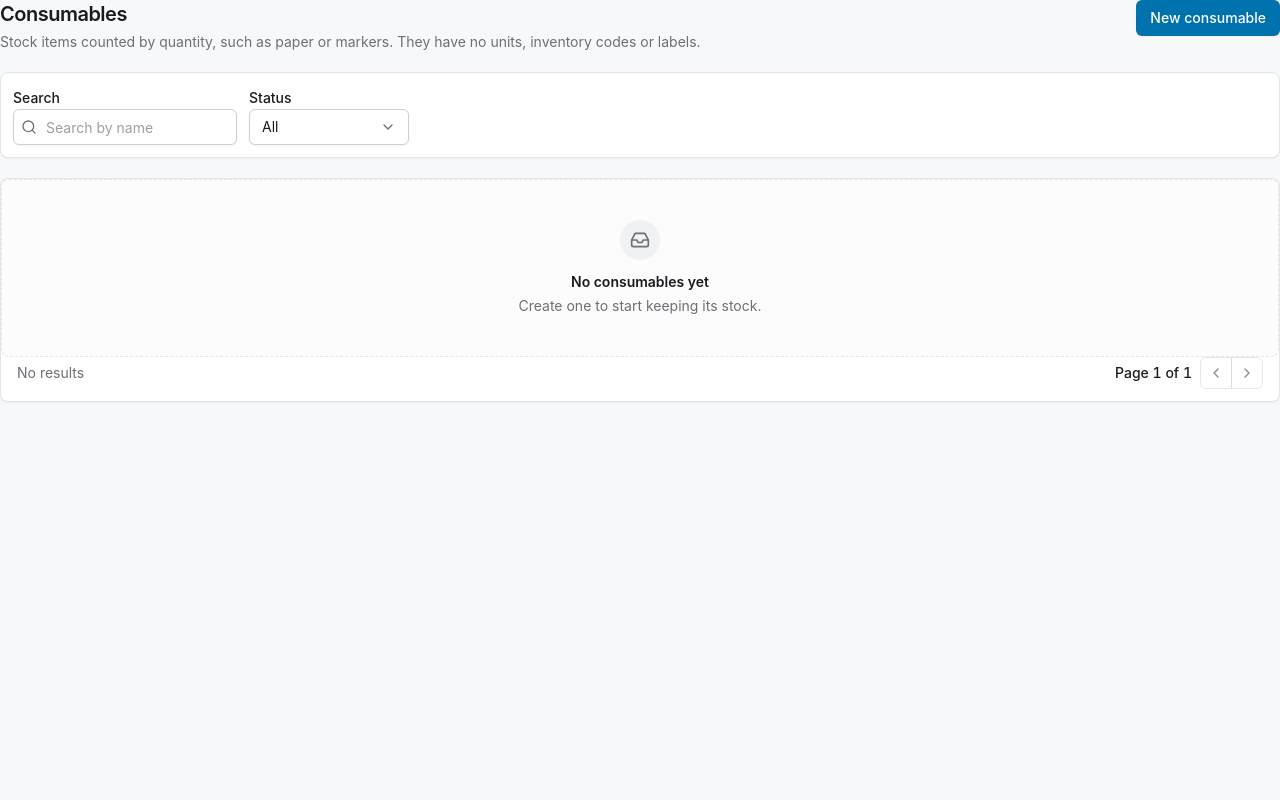
the consumable master and its stock › creates one with a name and unit — and asks for no inventory code
Click the button "New consumable".
click(1208, 18)  # box [1136,0,1279,36]
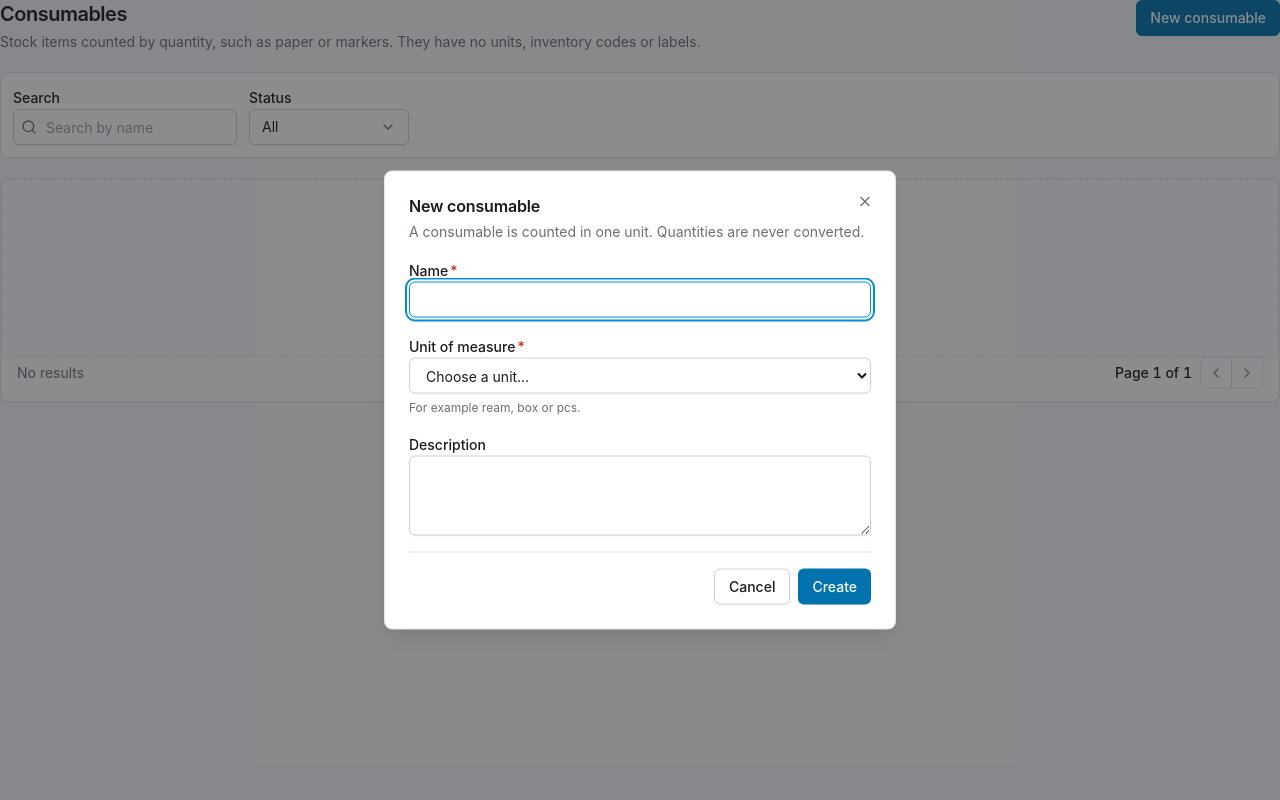
Click the button "Create".
click(835, 586)  # box [798,568,871,604]
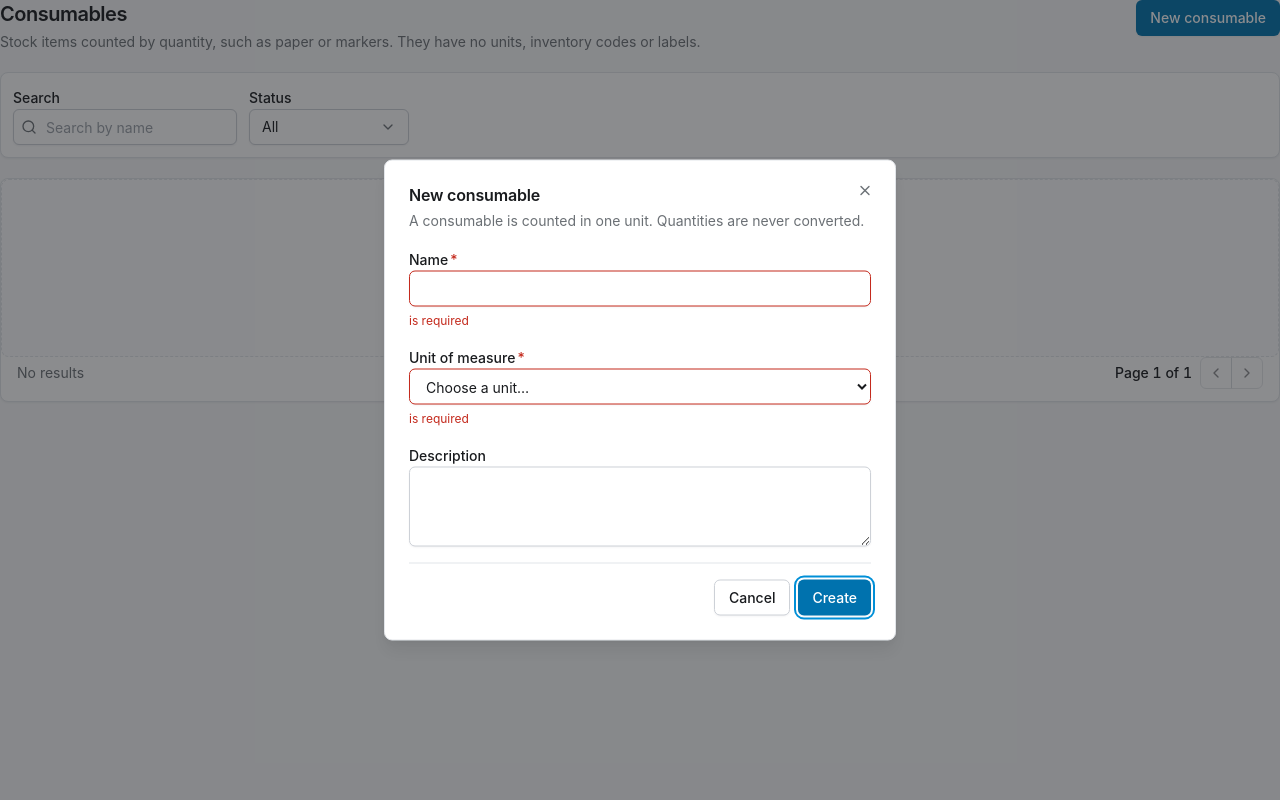
Type "Kertas A4" into the field labelled "Name*".
click(640, 288); type("Kertas A4")  # box [409,270,871,306]
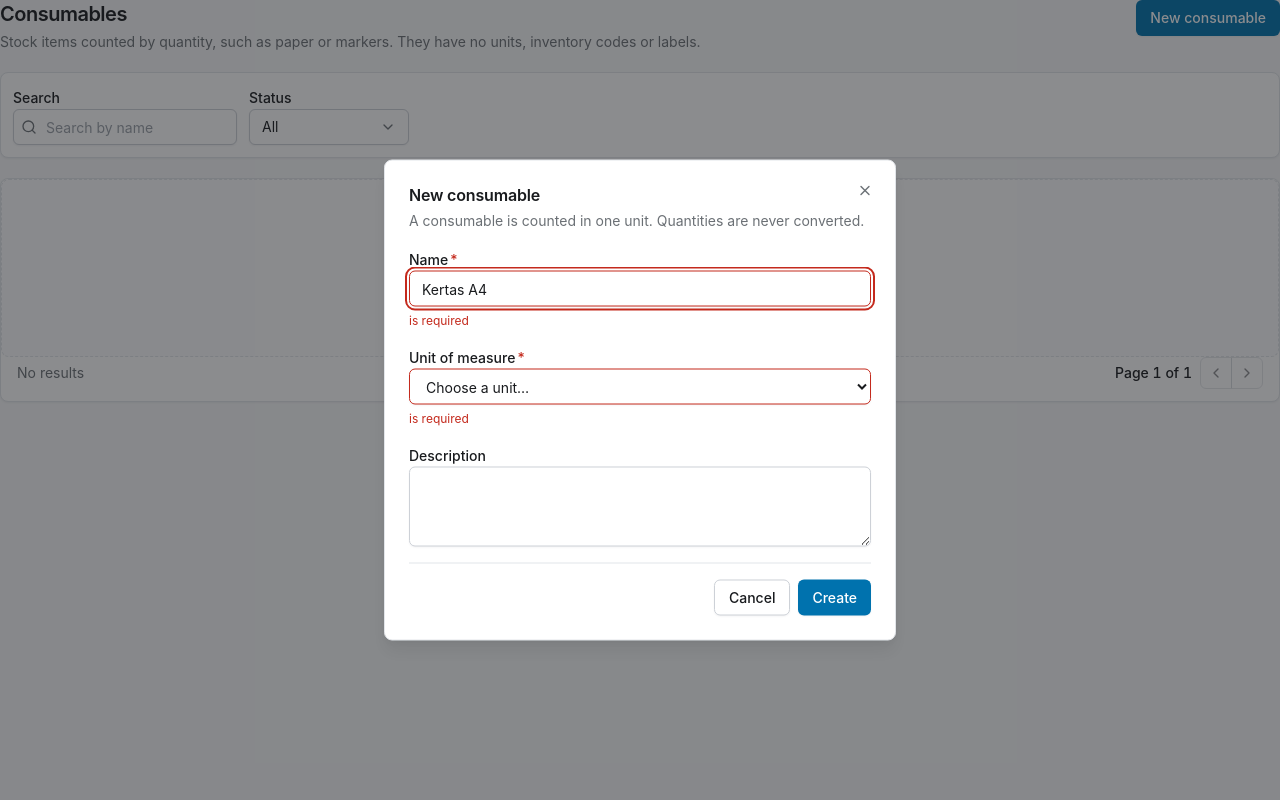
Select "rim" in the dropdown labelled "Unit of measure*" at point(640, 386), box [409,368,871,404]
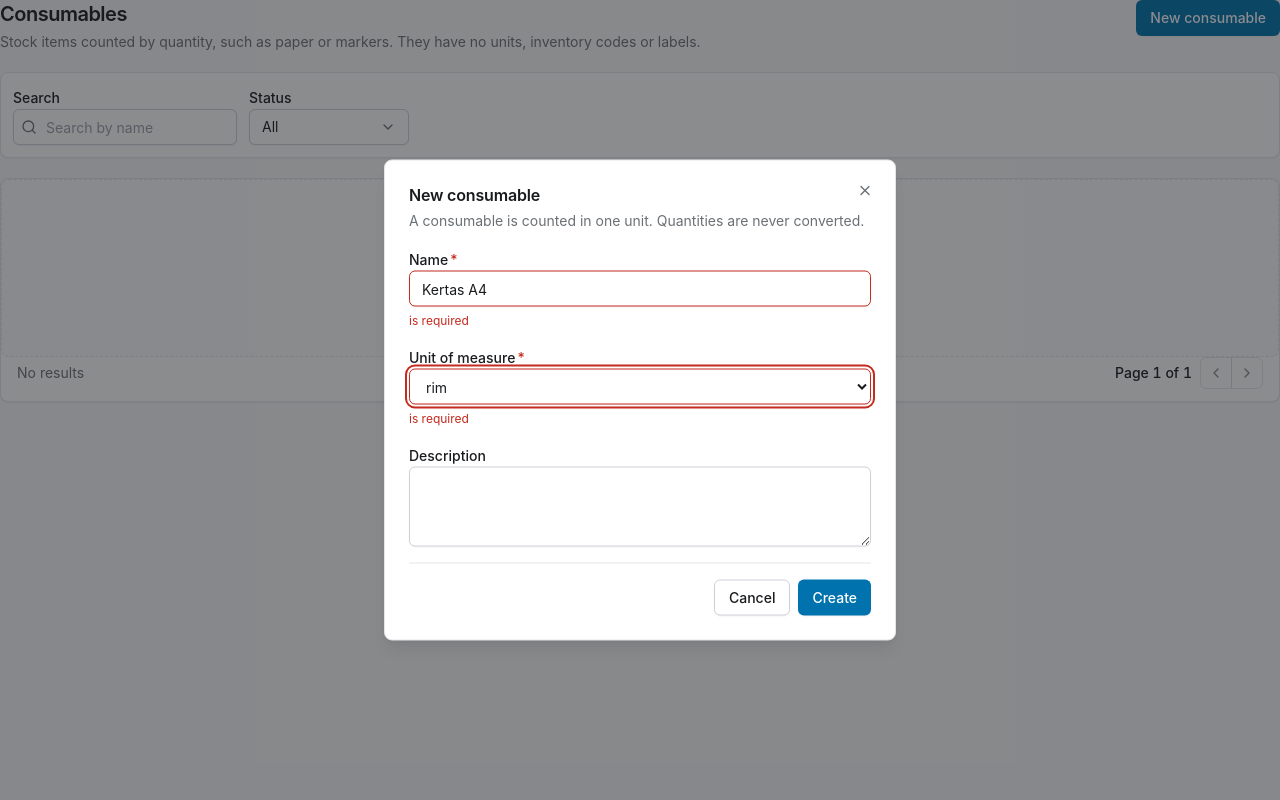
Click the button "Create".
click(835, 598)  # box [798,580,871,616]
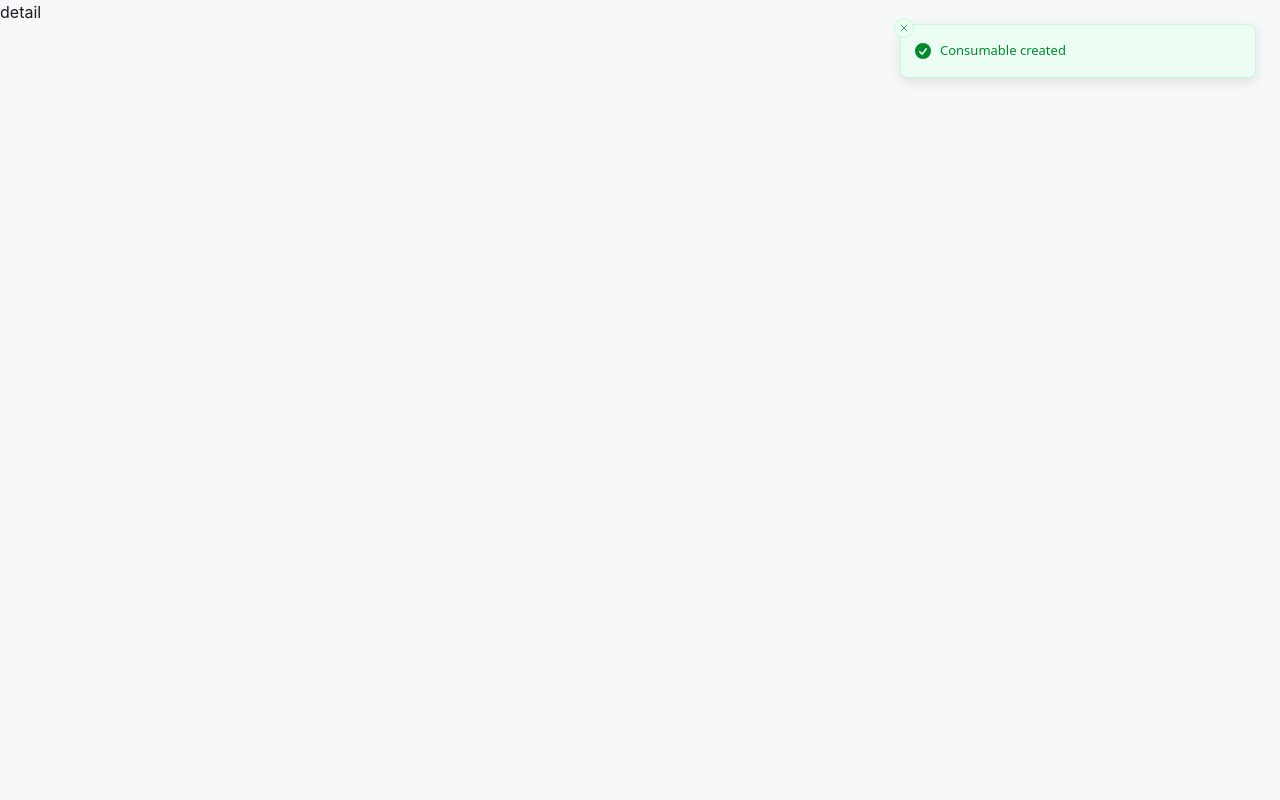
Expected: the text "detail" is shown, [0,2,41,22]
